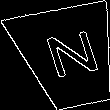N_S: (36, 28, 101, 87)
